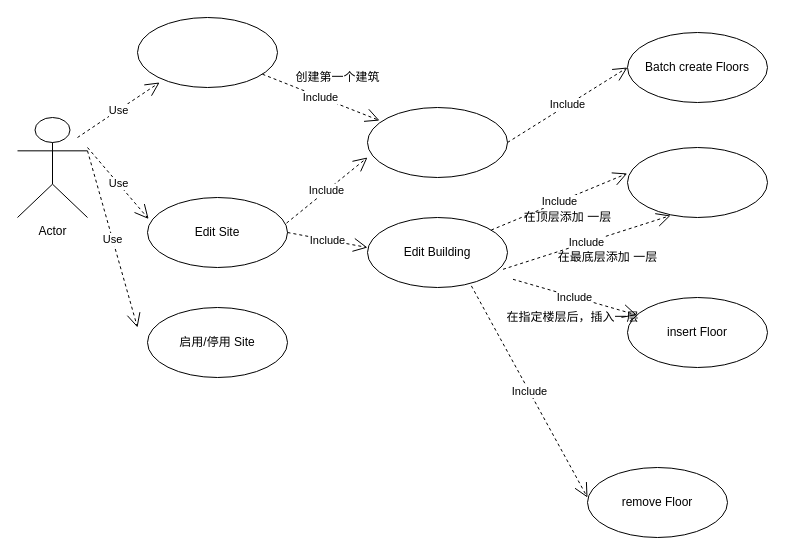
Image size: 785x555. Some labels were removed from this diagram. The shapes that lost their labels are listed below. From the top down, each one's box as (x1, y1, x2, y2) in pixels, then its label:
(136, 16, 278, 88): New Site
(366, 106, 508, 178): add Building
(626, 146, 768, 218): add Floor
